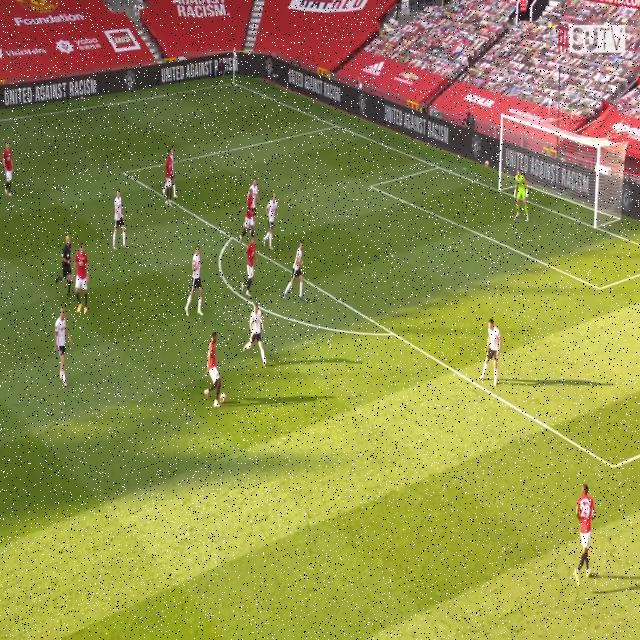GoalKeeper: (512, 166, 532, 227)
TEAM 1: (577, 483, 595, 587), (73, 239, 95, 316), (205, 333, 222, 412), (238, 241, 260, 297), (1, 138, 18, 198), (163, 148, 177, 210), (242, 190, 258, 241)
TEAM 2: (244, 302, 274, 366), (184, 245, 209, 317), (52, 304, 72, 389), (481, 315, 503, 389), (289, 237, 310, 307), (111, 190, 133, 250), (263, 192, 279, 248), (250, 170, 258, 214)
